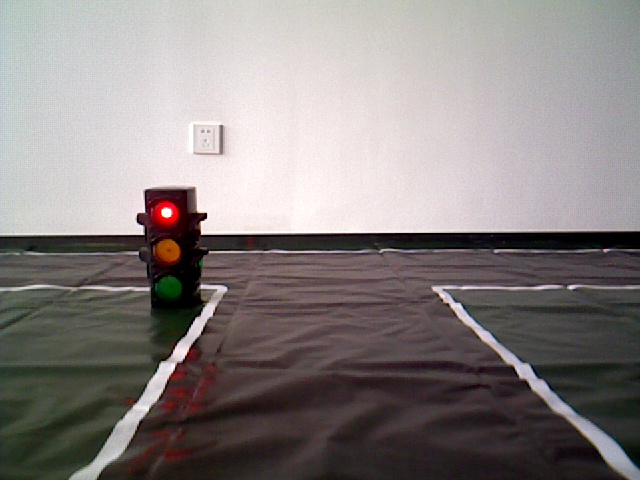red: (146, 190, 198, 307)
